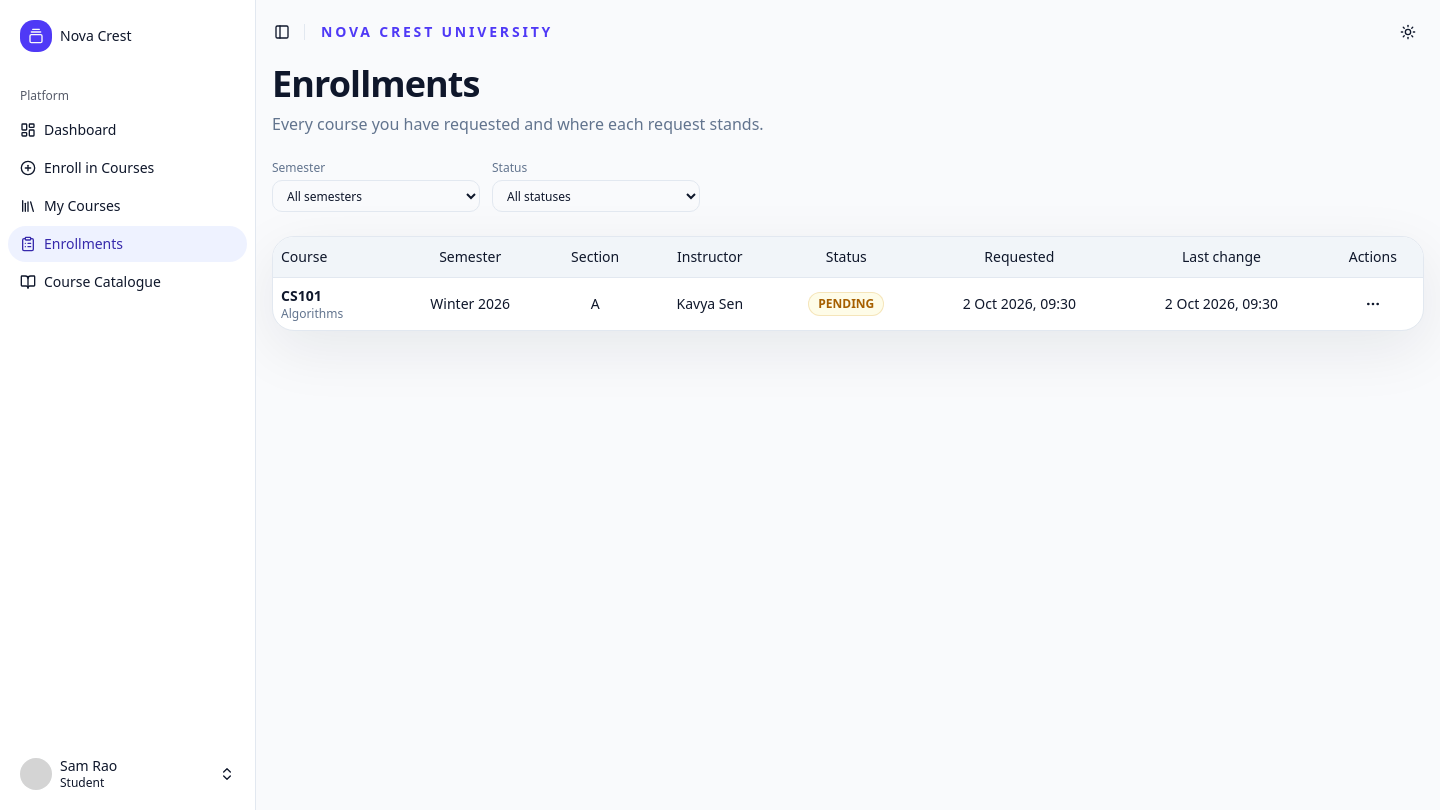
Test: MyEnrollmentsView › keeps the request when the student backs out of cancelling
Click the button named "Actions for CS101" in the row of "CS101". click: (1373, 304)
box: left=1357, top=288, right=1389, bottom=320
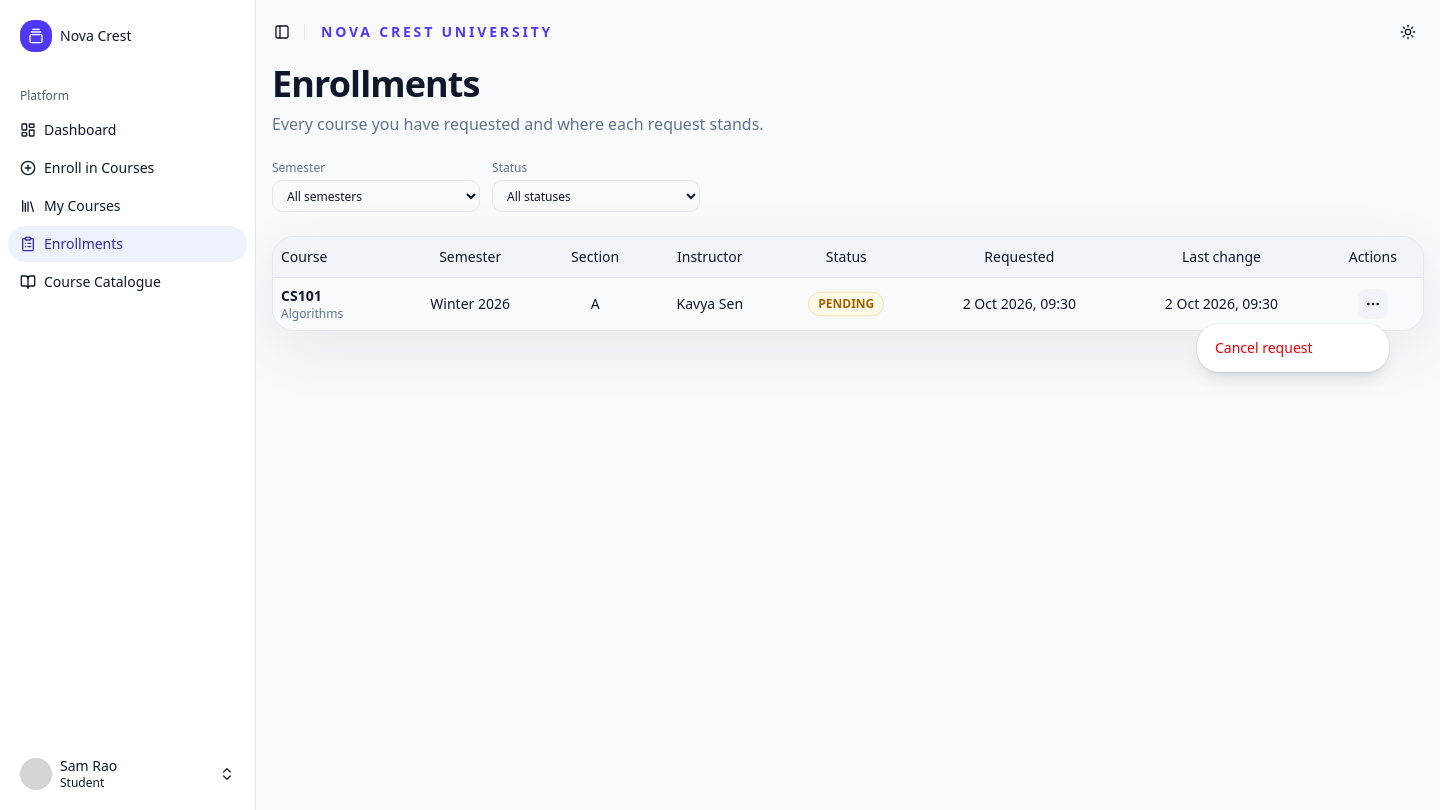
Click the menu item "Cancel request". click: (1264, 348)
box: left=1215, top=338, right=1312, bottom=357
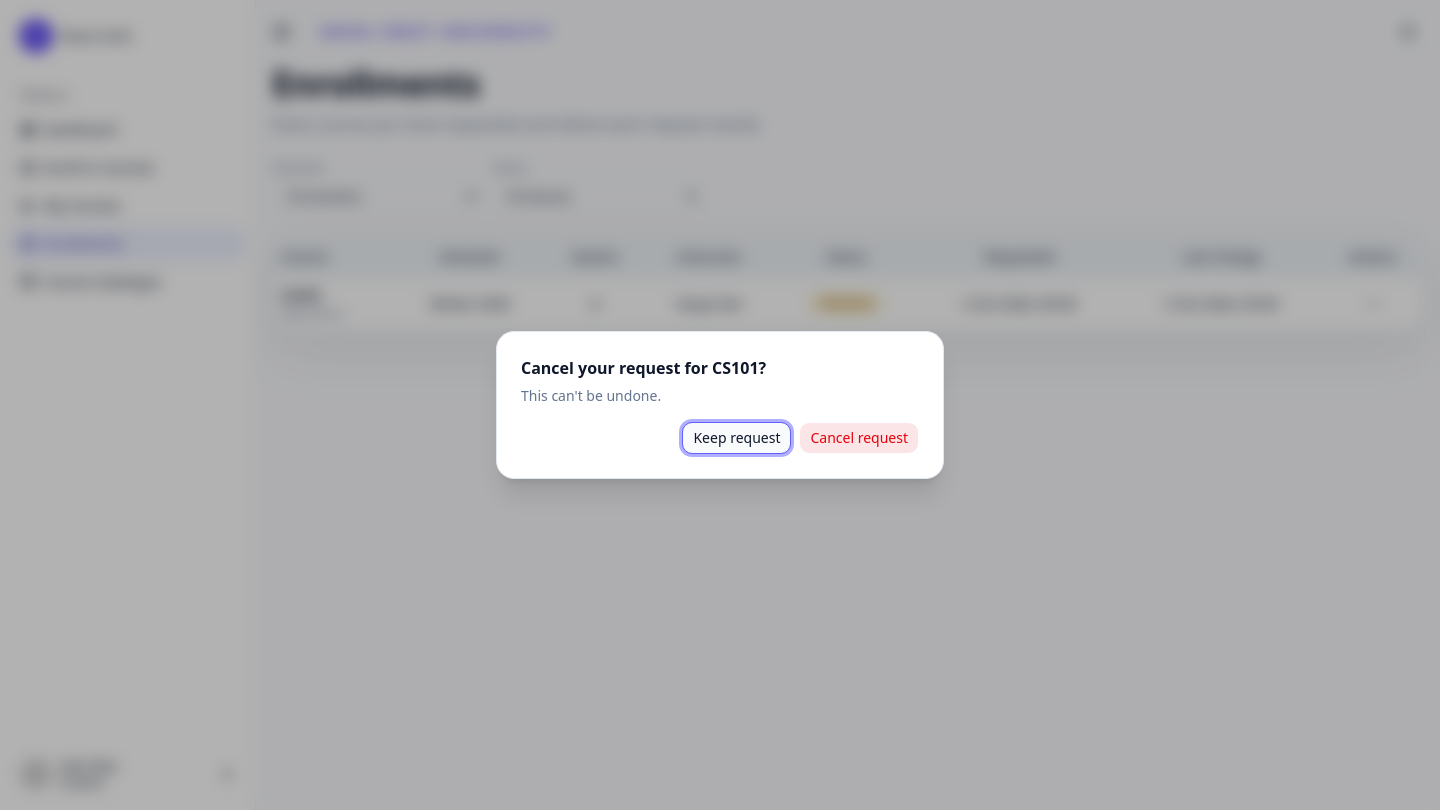
Click the button "Keep request". click: (737, 438)
box: left=682, top=422, right=791, bottom=454
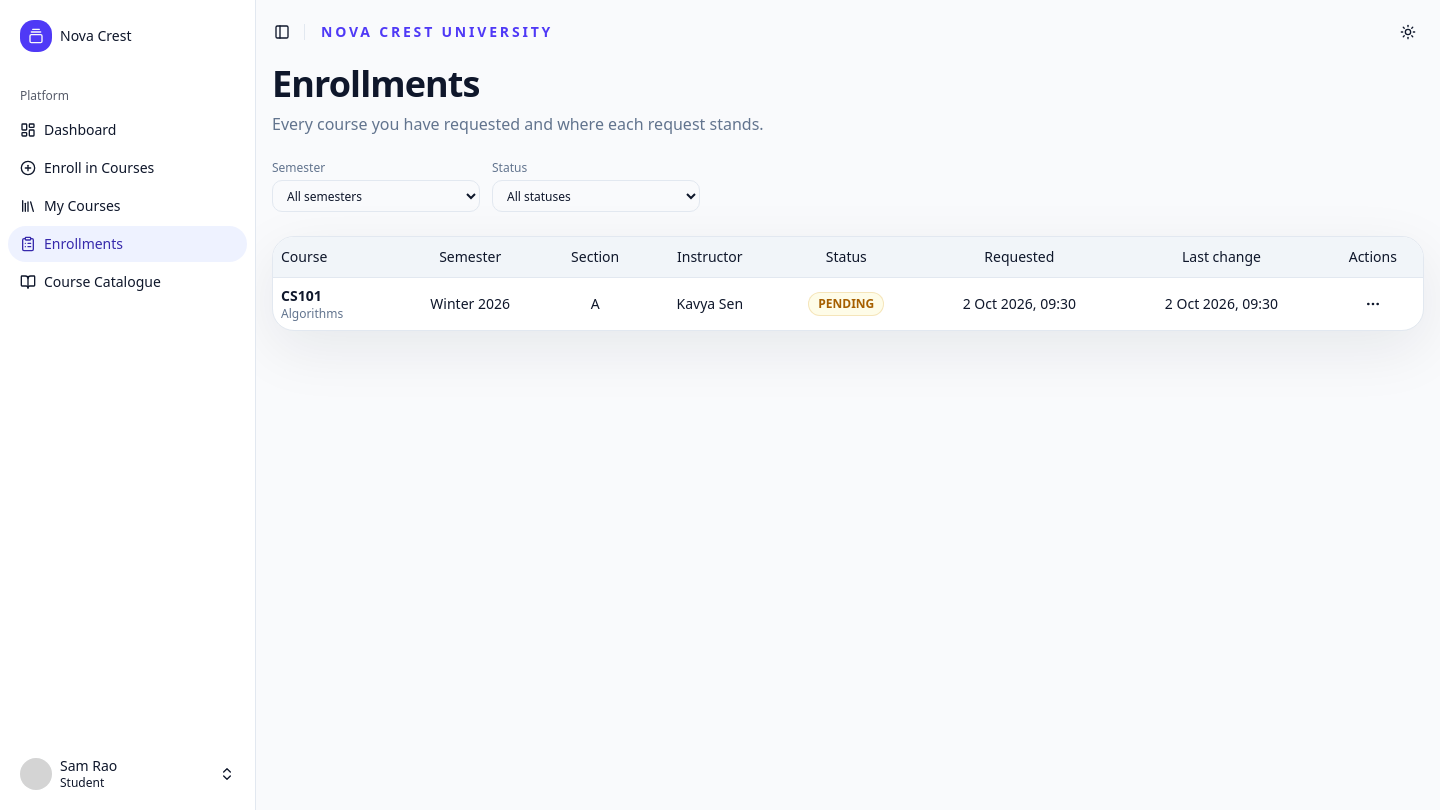
Check: the dialog is gone
